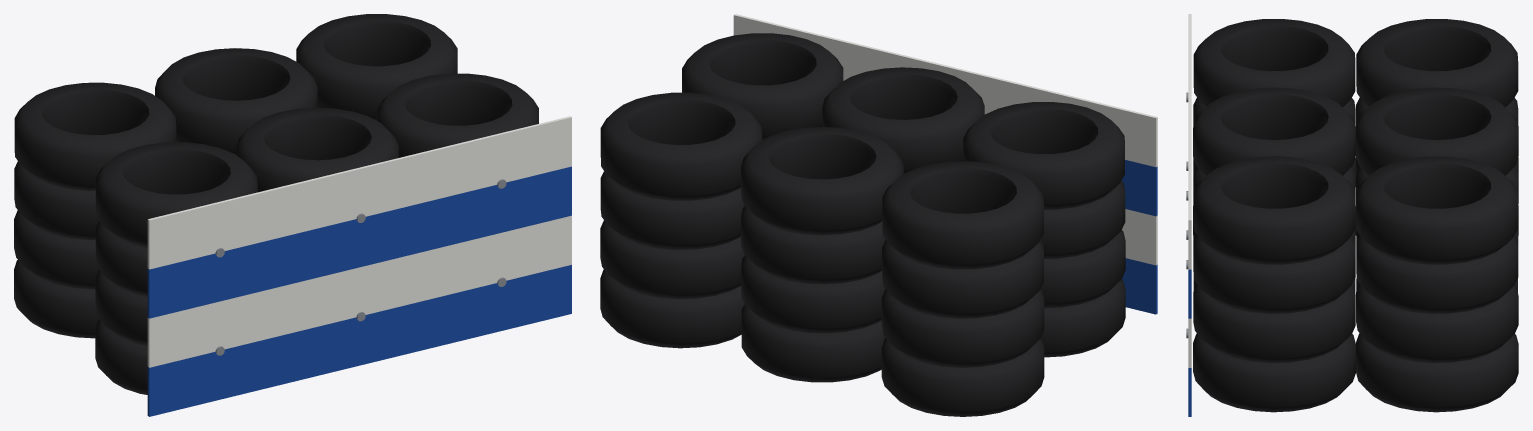
The model's file is tyre-barrier.glb.
3 views of the same model, side by side, from view 1: azimuth 30°, elevation 25°; view 2: azimuth 150°, elevation 25°; view 3: azimuth 270°, elevation 25° (orthographic).
Parts seen in each view (by area): view 1: Tyre_Barrier; view 2: Tyre_Barrier; view 3: Tyre_Barrier.
Part boxes in pixels (x1,y1,x2,y2): Tyre_Barrier: (14, 14, 571, 416); Tyre_Barrier: (600, 14, 1157, 416); Tyre_Barrier: (1186, 14, 1518, 416).
Bounding box in the file's own units: 1.8 × 0.8 × 1.23.
